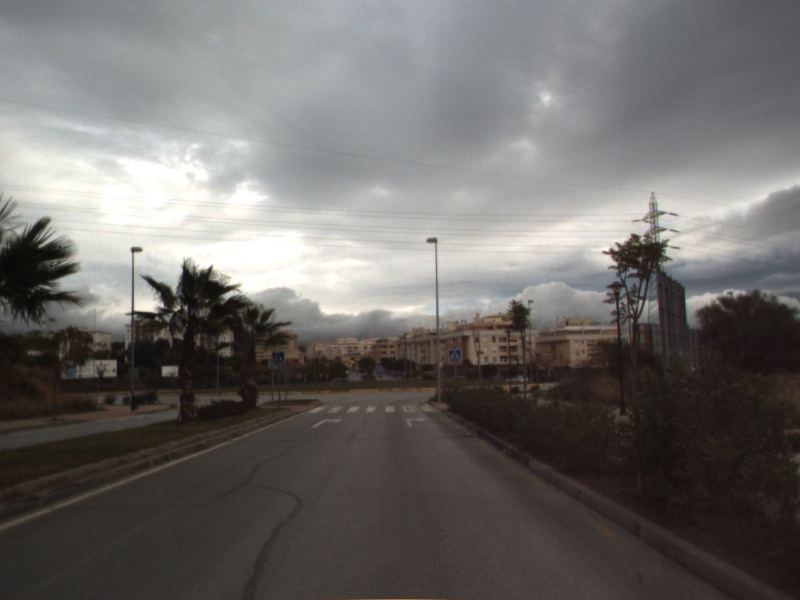RIGHT: (309, 415, 344, 430), (403, 414, 429, 429)
